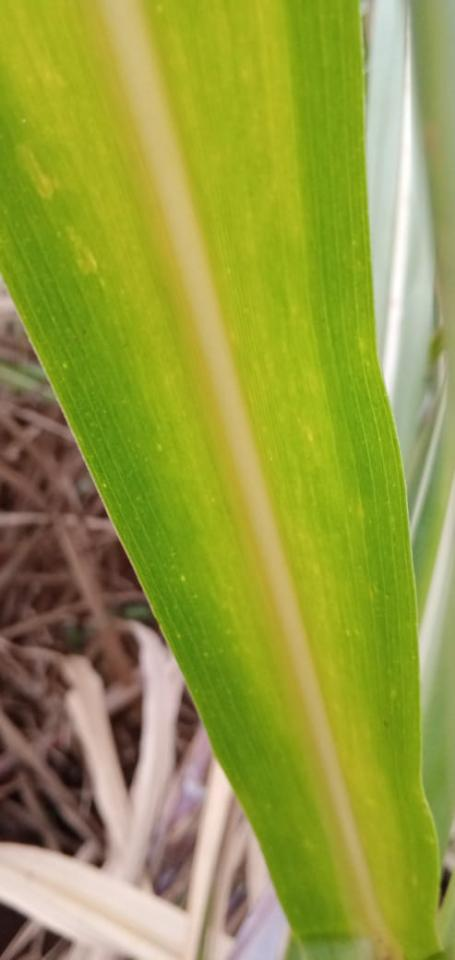Rust: (0, 0, 445, 959)
